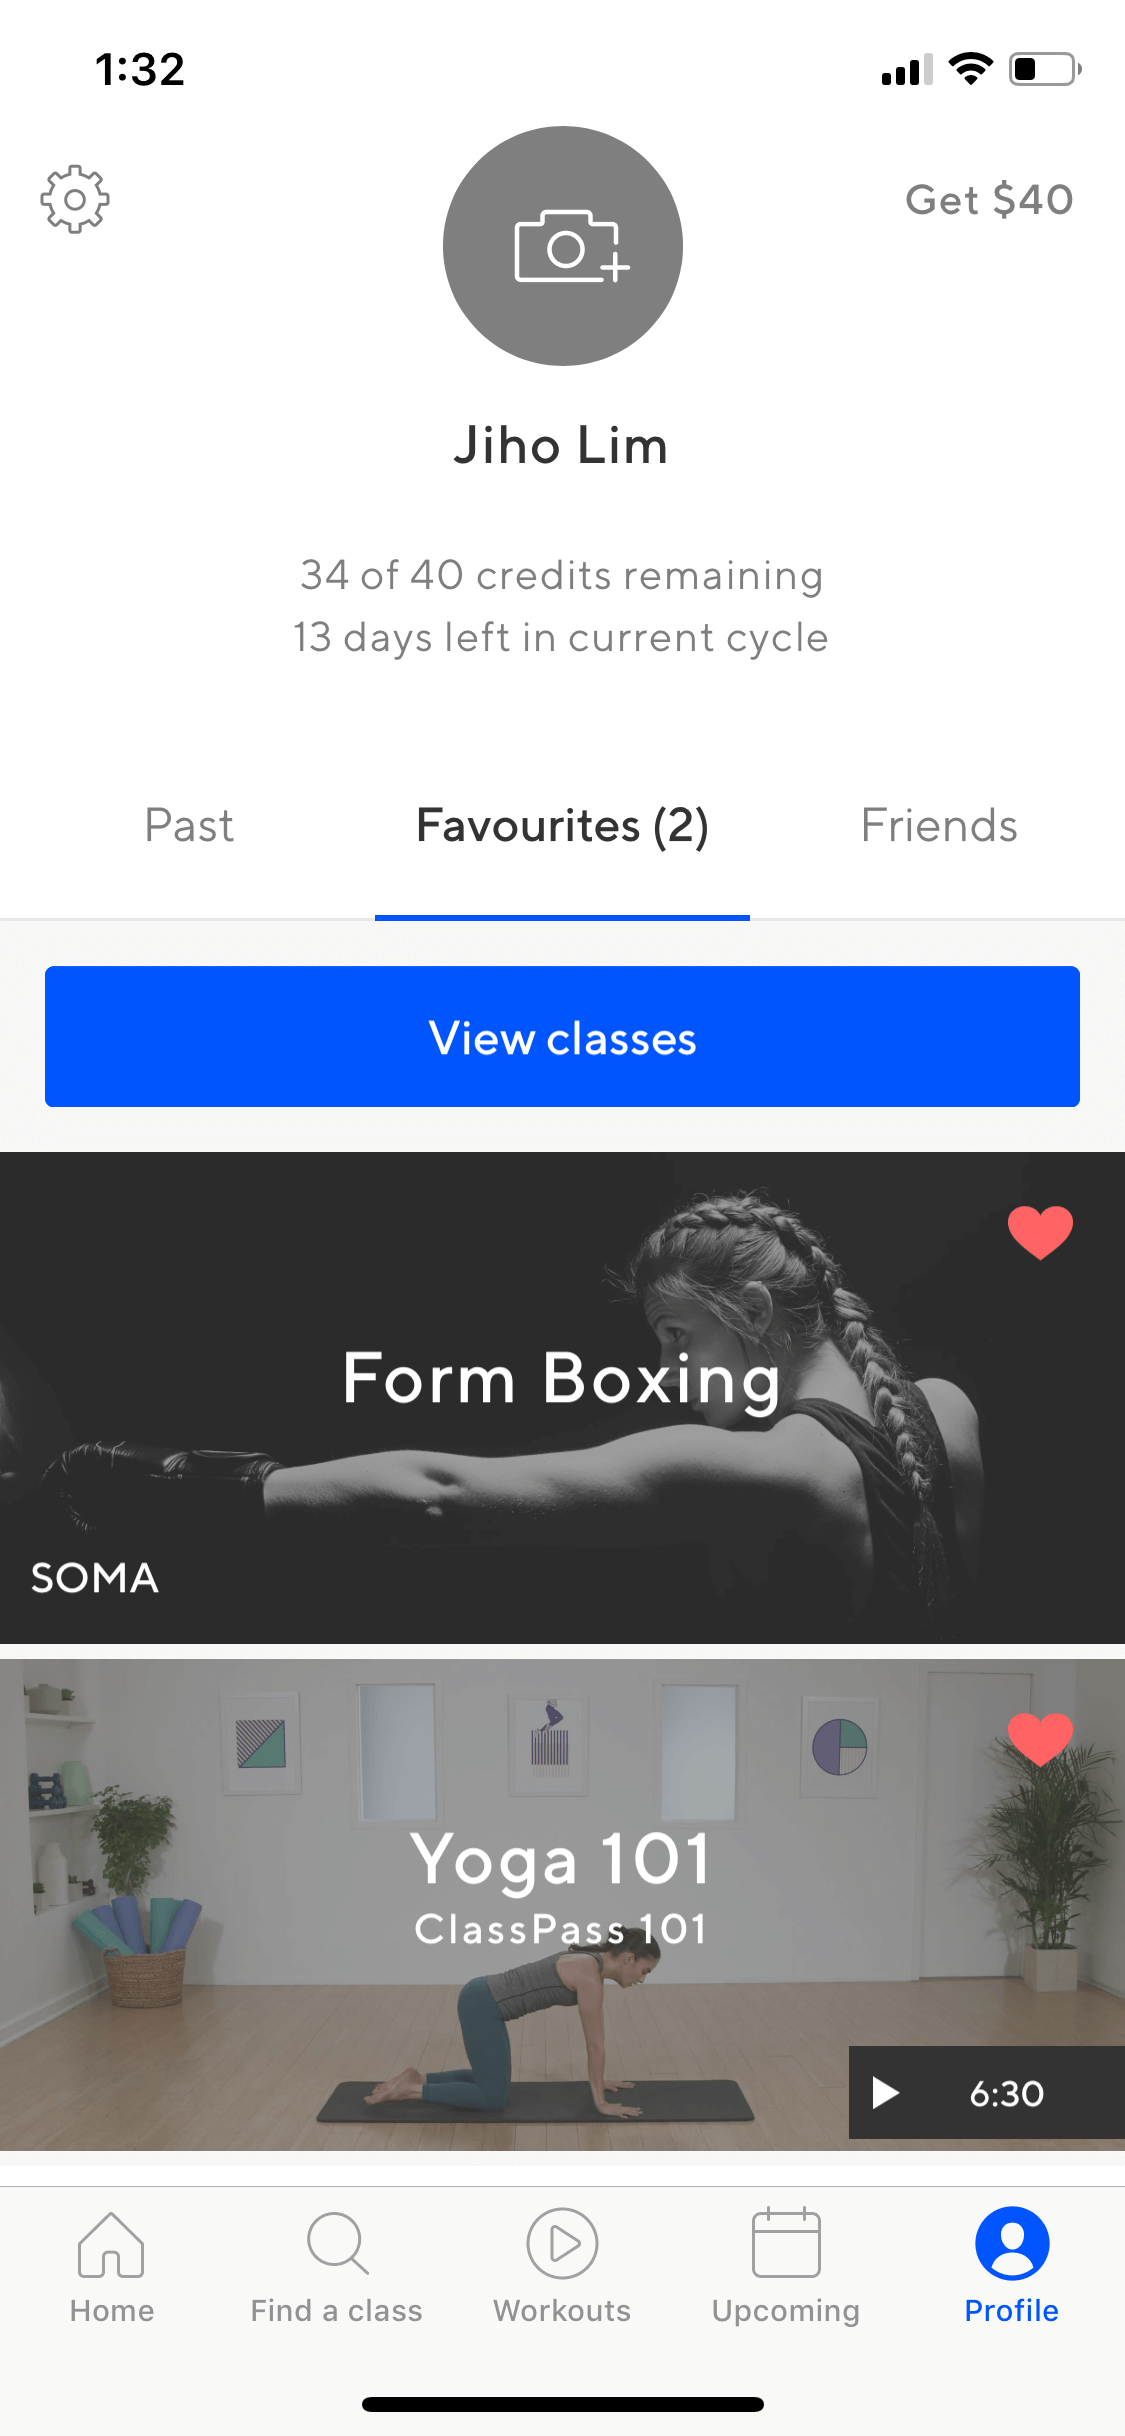Buttons: (33, 941, 1094, 1129), (6, 121, 163, 269), (982, 1676, 1088, 1780), (984, 1174, 1089, 1272)
